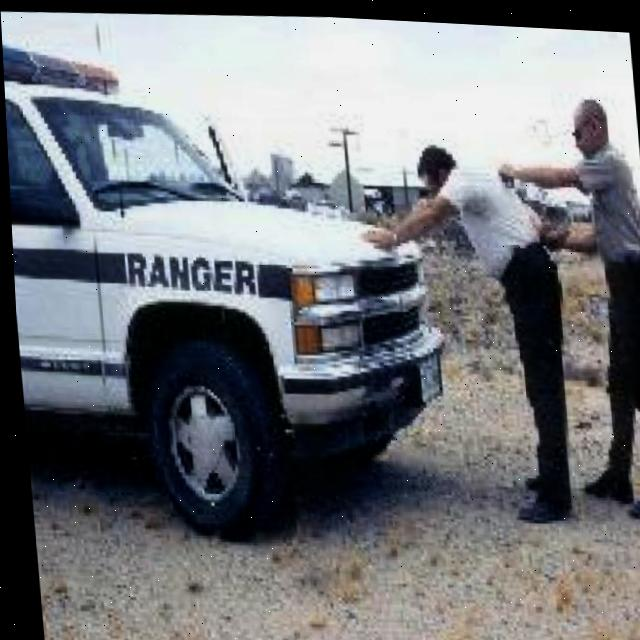emergency: (1, 22, 458, 554)
